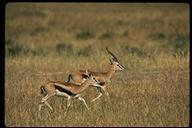antelope: (66, 45, 127, 105), (37, 71, 101, 119)
grass: (128, 52, 186, 125), (7, 54, 63, 77)
